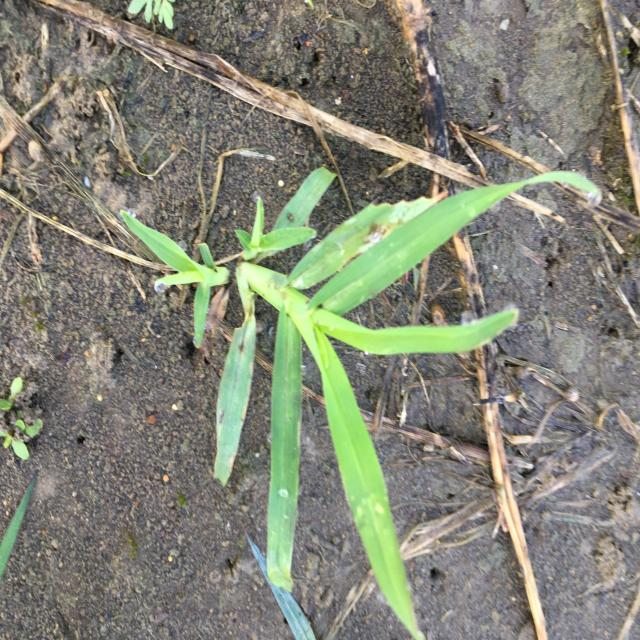Goosegrass: (117, 163, 602, 638)
